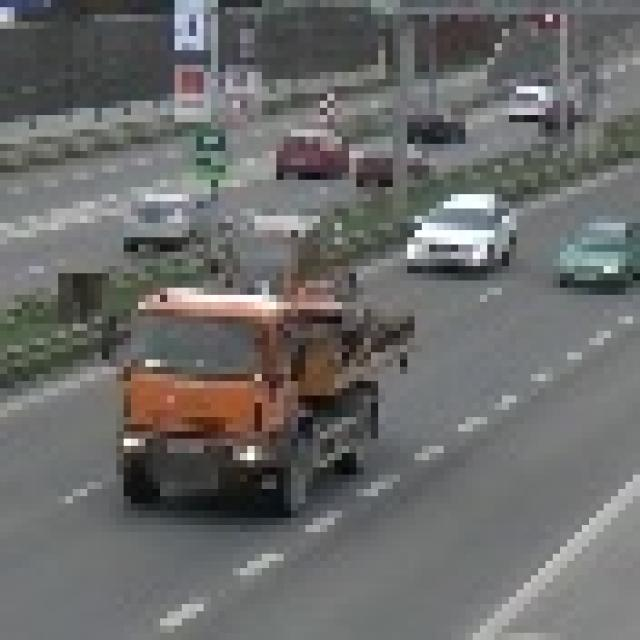truck: (109, 244, 378, 518)
